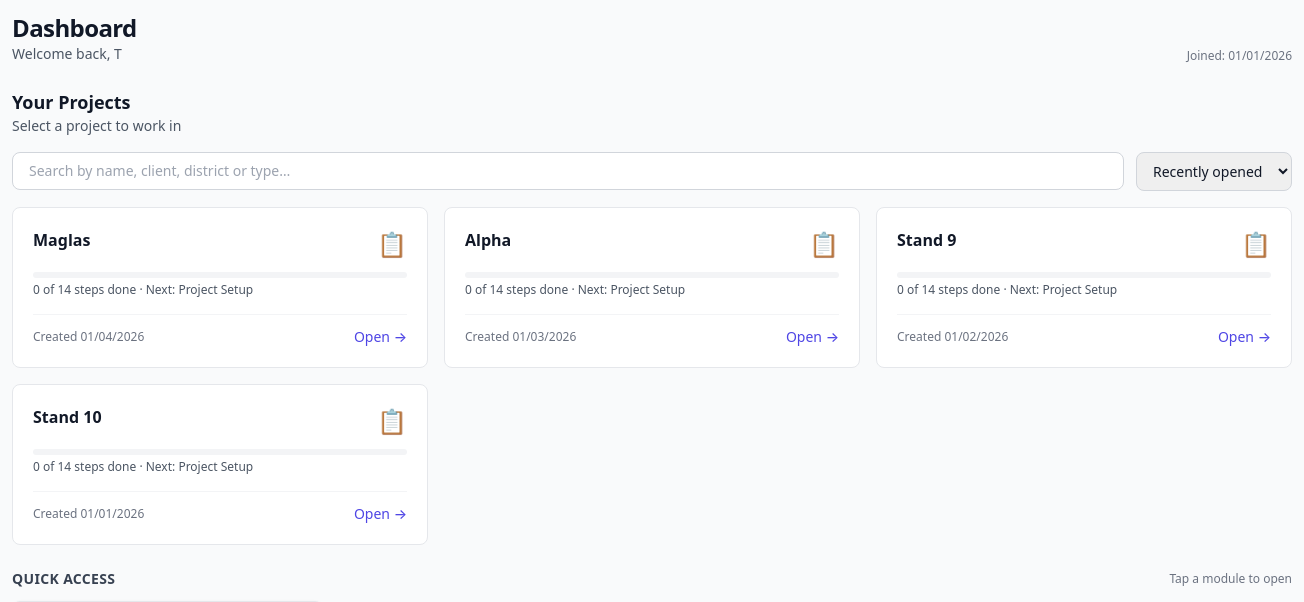
dashboard project cards › shows no search box for a short list, and filters and sorts a longer one
Expected: the search field with placeholder "Search by name, client, district or type…" is shown, [12,152,1124,190]
Step 1. Select "Name (A–Z)" in the dropdown → (1214, 172), box [1136,152,1292,191]
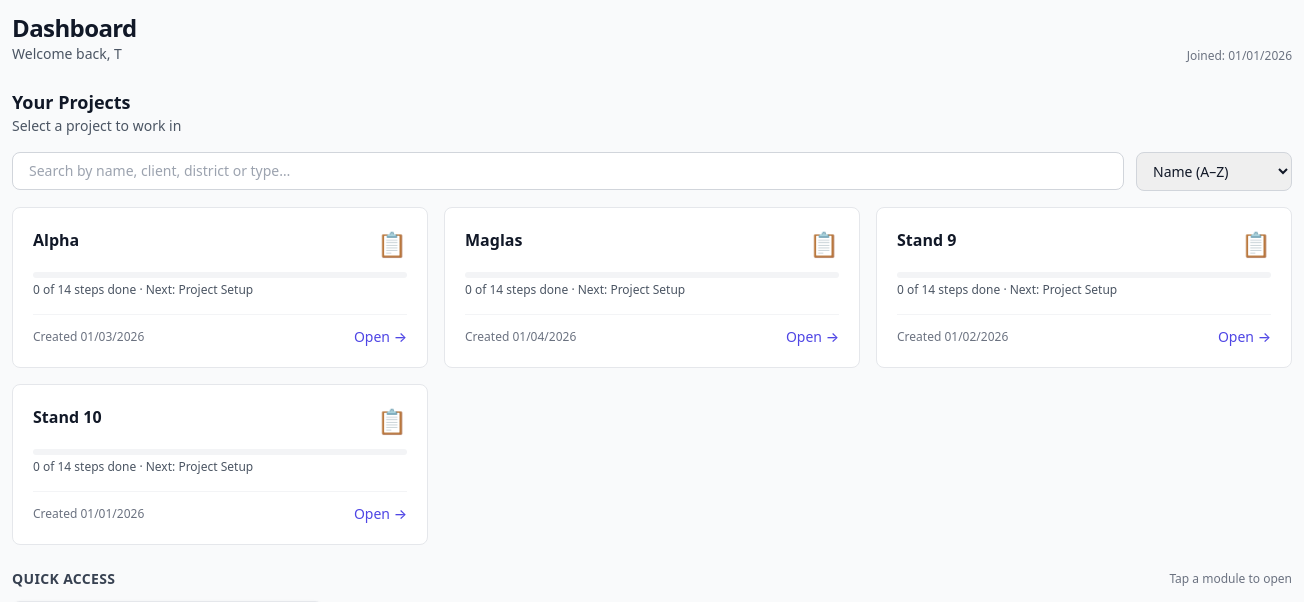
Step 2. Type "stand" into the search field with placeholder "Search by name, client, district or type…" → (568, 171), box [12,152,1124,190]
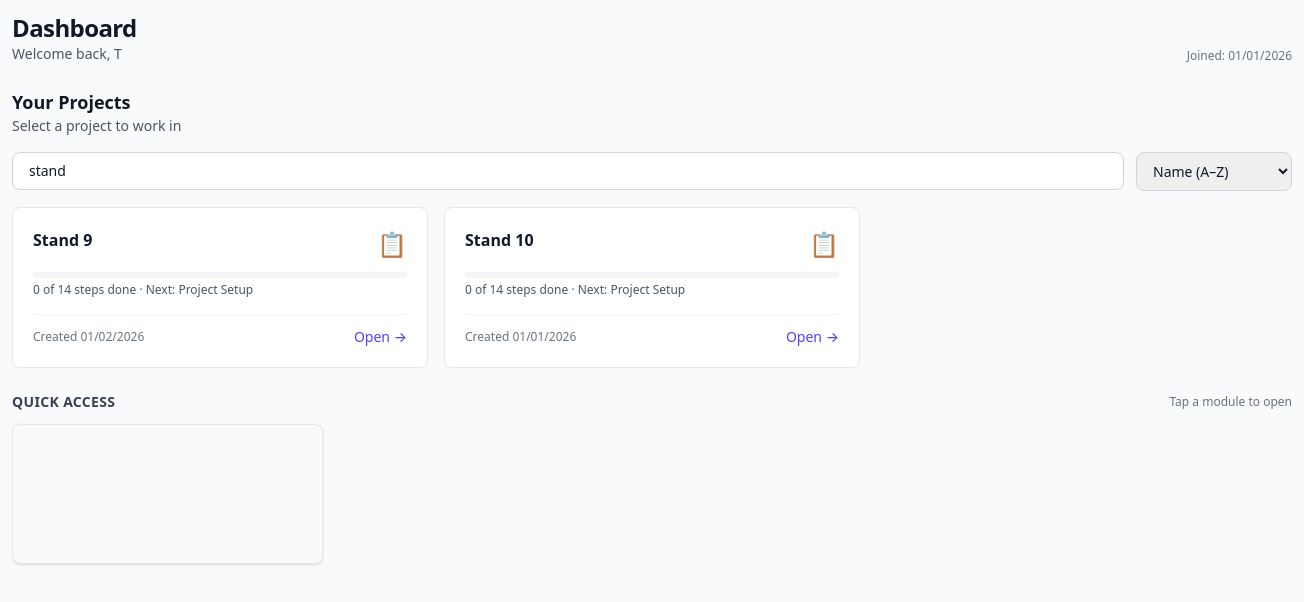
Step 3. Replace the text in the search field with "zzz" → (568, 171), box [12,152,1124,190]
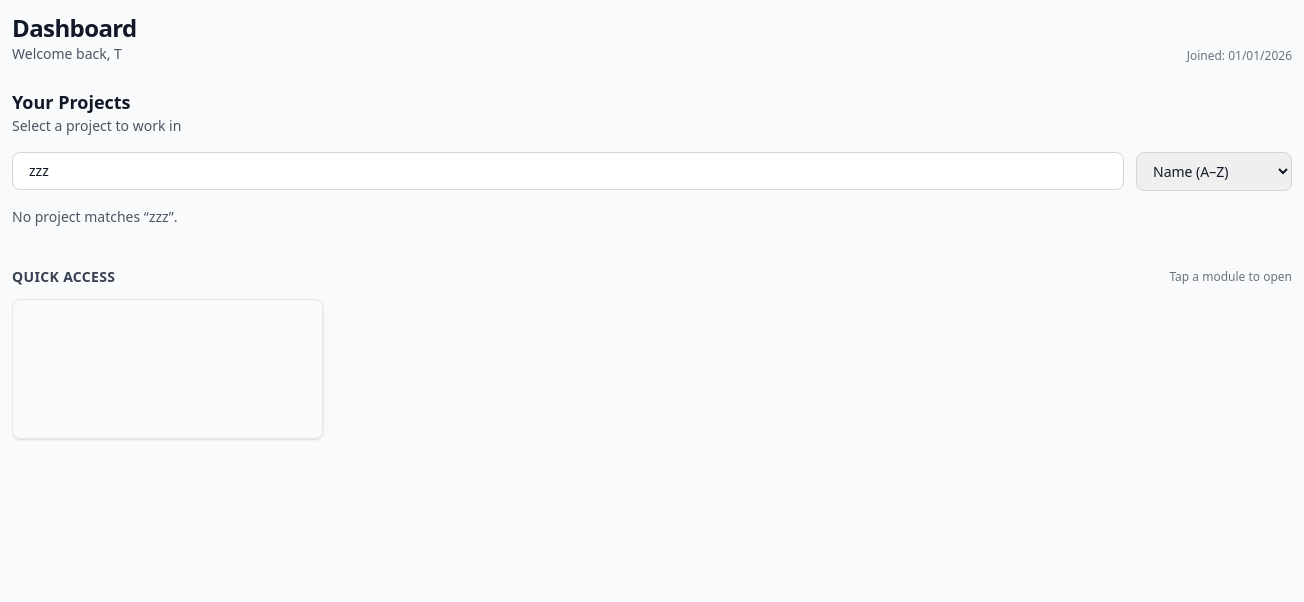
Now the text "No project matches" is shown, box [12,207,177,226]
